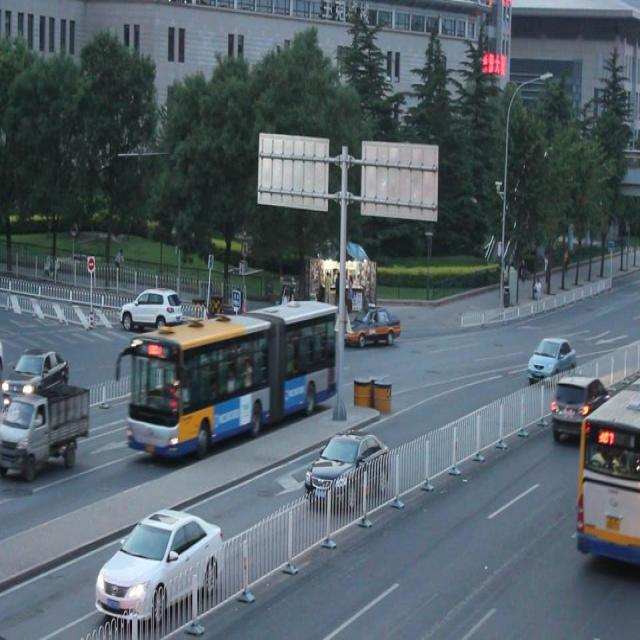bus: (0, 391, 90, 481)
car: (95, 506, 223, 612), (307, 431, 390, 505), (0, 348, 70, 402), (551, 371, 609, 434), (343, 303, 402, 351), (123, 289, 181, 333), (526, 336, 576, 380)
van: (128, 304, 336, 460), (580, 371, 640, 569)
